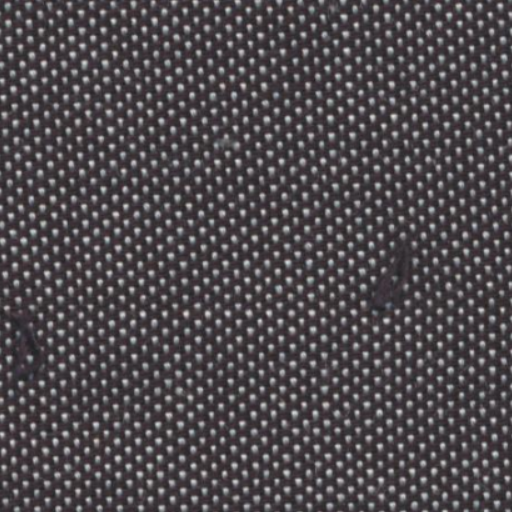DuanSha: (353, 218, 430, 328), (5, 276, 61, 398)
